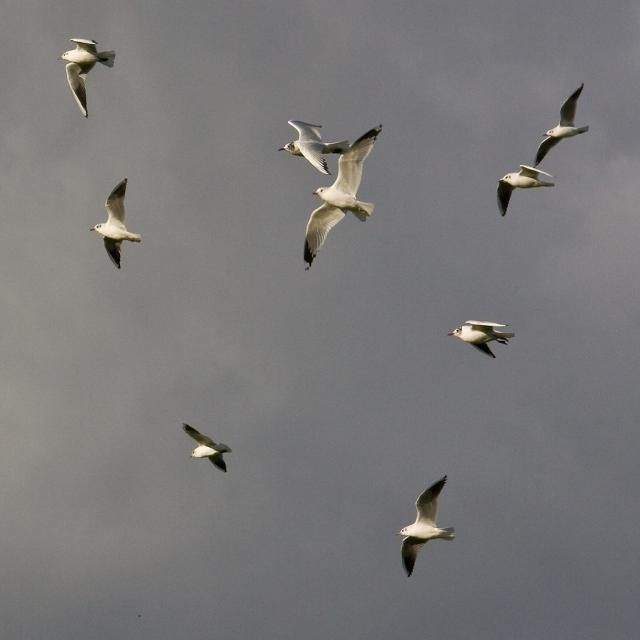bird: (288, 119, 384, 277), (397, 473, 458, 578), (273, 120, 382, 178), (90, 180, 146, 267), (60, 39, 116, 120), (534, 84, 590, 161), (444, 322, 518, 362), (498, 170, 556, 220), (182, 423, 235, 475)
